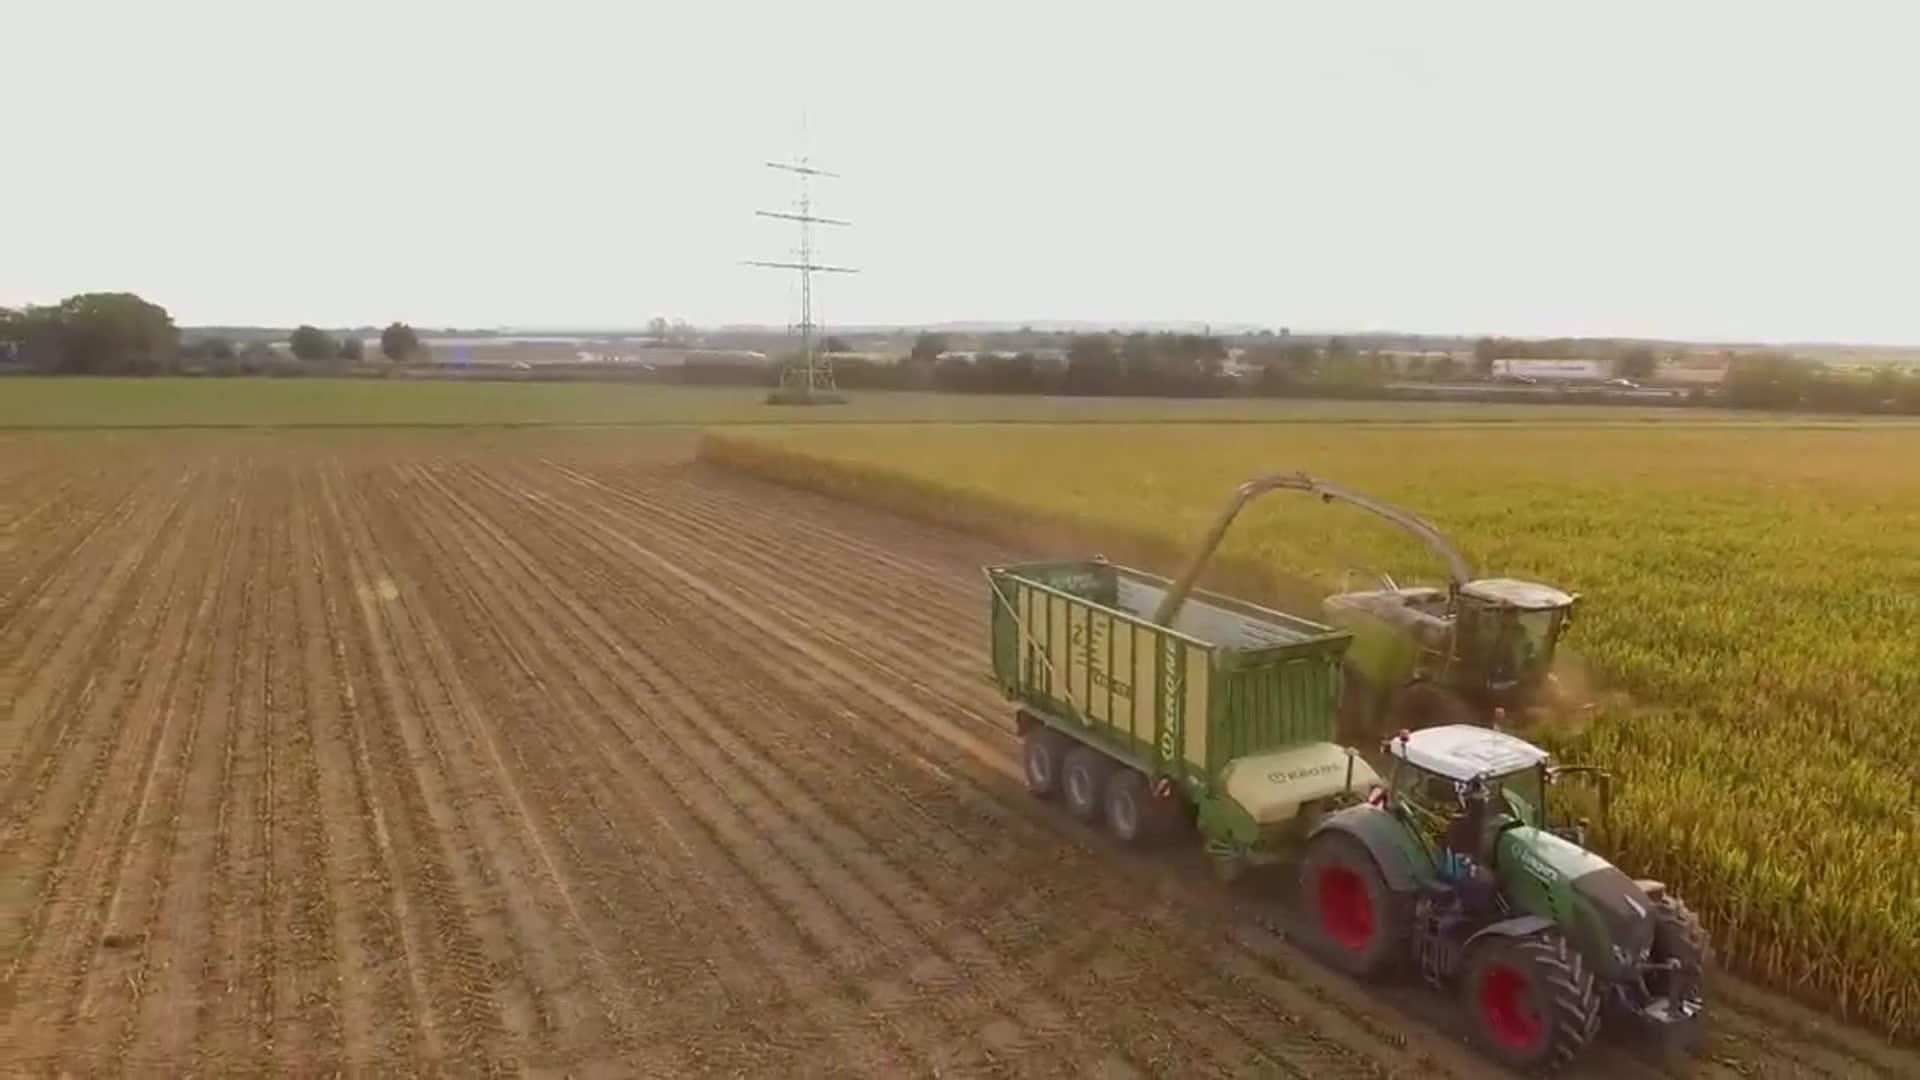combine harvester: (1228, 456, 1600, 766)
tractor: (1291, 715, 1721, 1077)
trailer: (977, 545, 1395, 877)
